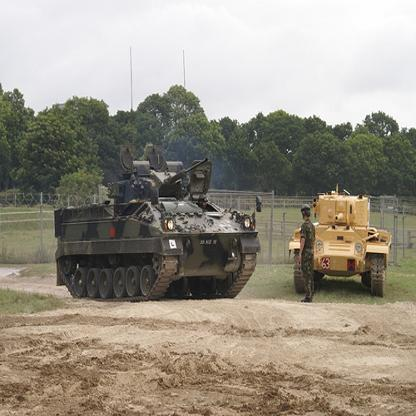Tank: (50, 152, 262, 315), (283, 180, 397, 303)
